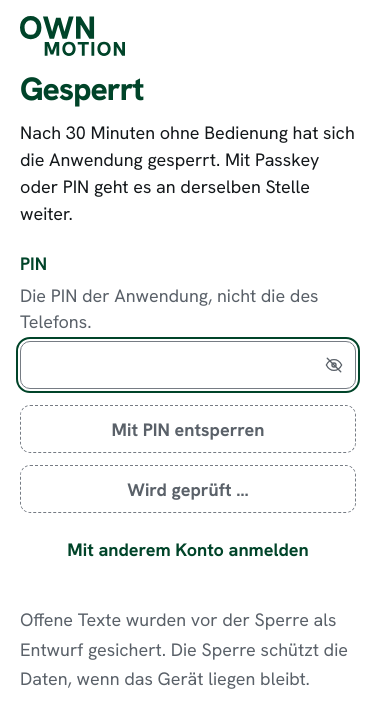
Test case: Sperrseite: Passkey von selbst, App-PIN dahinter (ADR-025 Punkt 11 Fassung 3) › lässt die PIN offen, solange das Passkey-Fenster offen ist
expect the button "Wird geprüft …" is disabled: met, box [20,466,356,514]
Type "483920" into the password field labelled "PIN" at (188, 366), box [20,342,356,390]
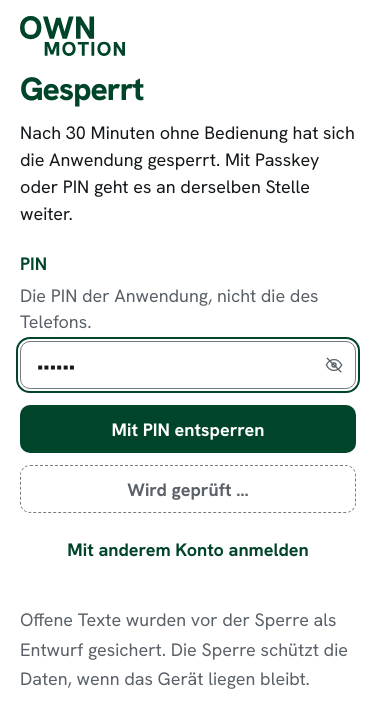
expect the button "Mit PIN entsperren" is enabled: met, box [20,406,356,454]
